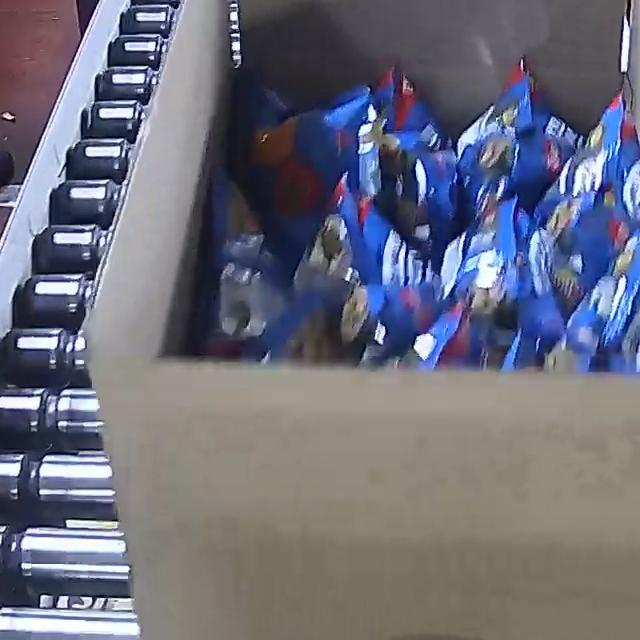paprika: (210, 53, 640, 375)
